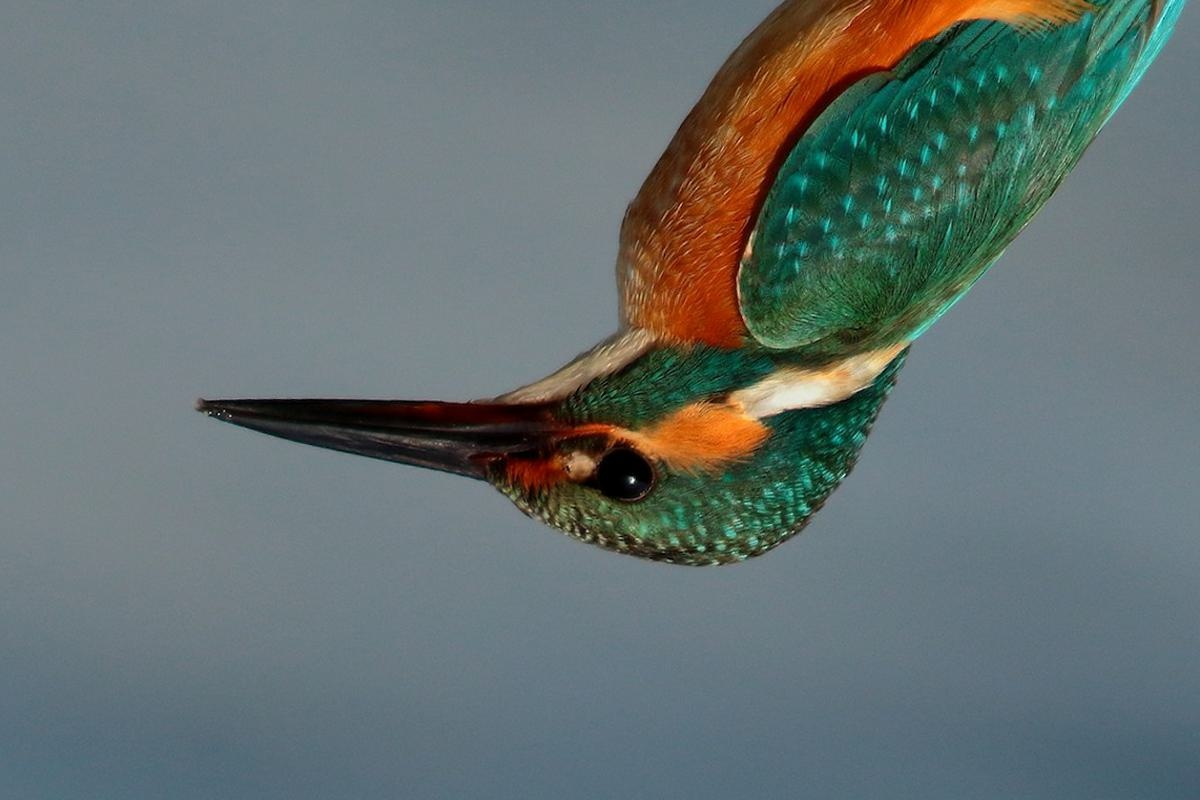kingfisher: (180, 1, 1162, 540)
